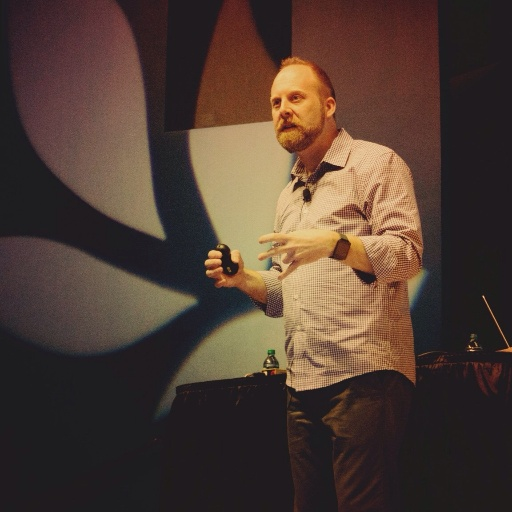hand: (256, 227, 335, 280), (208, 248, 271, 298)
